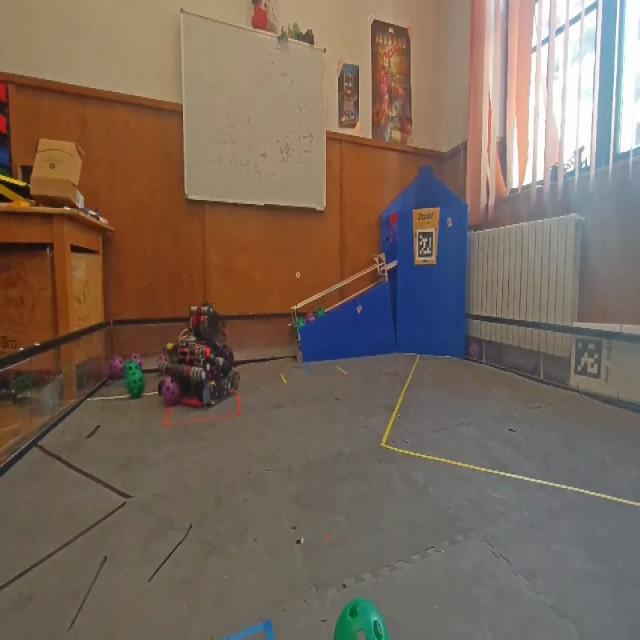artifact_green: (334, 599, 388, 639), (126, 368, 145, 398), (124, 360, 140, 379), (125, 367, 142, 383), (189, 380, 202, 397), (306, 312, 315, 323), (297, 318, 306, 329), (316, 307, 325, 318)
artifact_purple: (162, 376, 181, 406), (108, 356, 124, 379), (468, 342, 481, 359), (130, 354, 142, 370), (158, 352, 167, 370), (306, 312, 315, 323)
